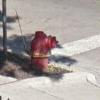Hydrant: (21, 22, 66, 74)
